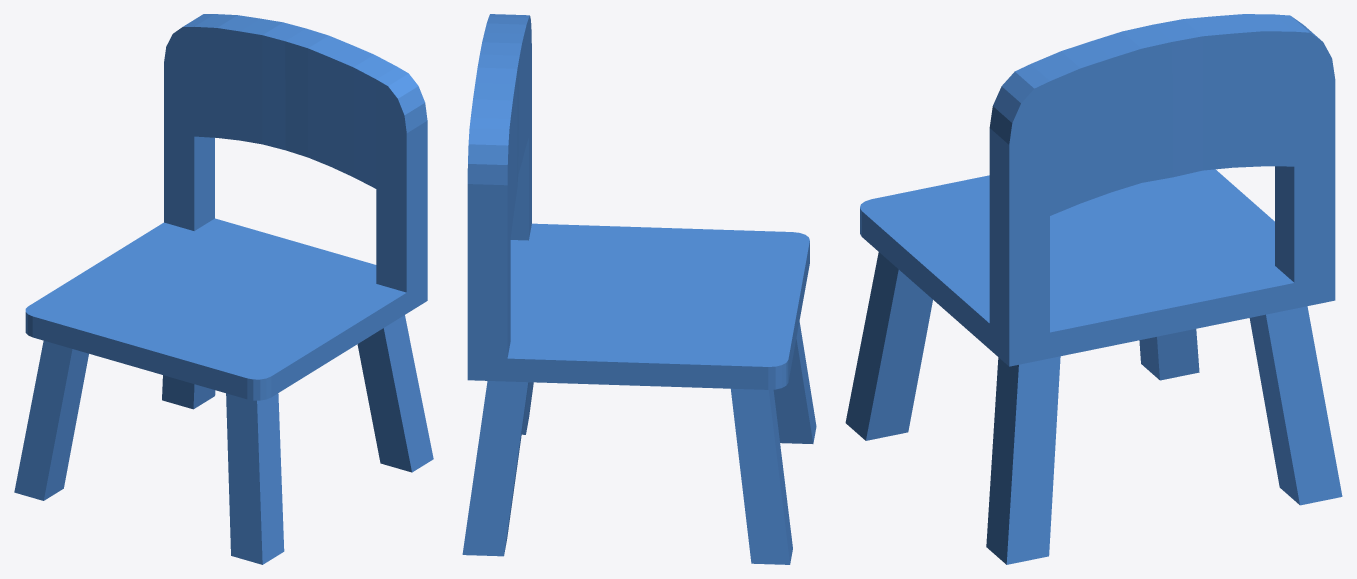
The model's file is Kid Chair.fbx.
The picture shows the model from 3 angles, left to right: view 1: azimuth 30°, elevation 25°; view 2: azimuth 150°, elevation 25°; view 3: azimuth 270°, elevation 25°; orthographic projection. The views are drawn at different scales.
Visible parts, largest first — view 1: Chair; view 2: Chair; view 3: Chair.
Boxes of the visible parts, x1,y1,x2,y2 form: Chair: (14,14,433,564); Chair: (462,14,816,564); Chair: (845,14,1342,564).
Size of the model in its own units: 457 by 496 by 459.
